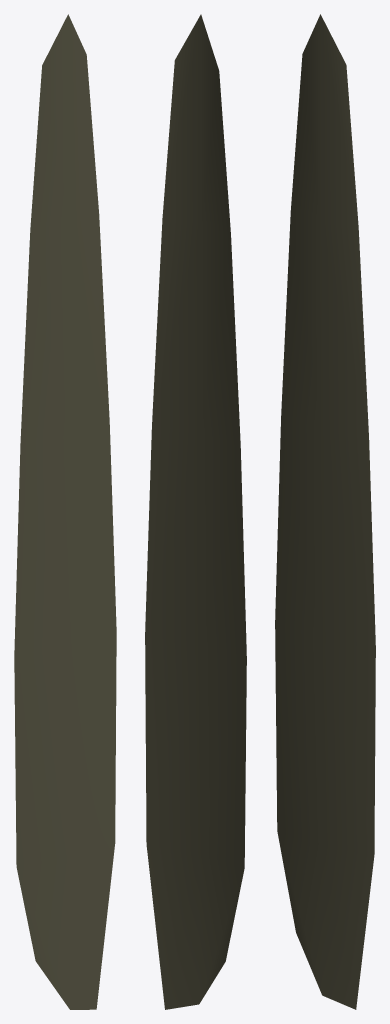
Rendered from finch_feather_flight_primary_003.obj.
3 views of the same model, side by side, from view 1: azimuth 30°, elevation 25°; view 2: azimuth 150°, elevation 25°; view 3: azimuth 330°, elevation 25° (orthographic).
Visible parts, largest first — view 1: feather_flight_primary_003; view 2: feather_flight_primary_003; view 3: feather_flight_primary_003.
Part boxes in pixels (<box>): feather_flight_primary_003: <box>14,14,116,1009</box>; feather_flight_primary_003: <box>145,14,246,1009</box>; feather_flight_primary_003: <box>275,14,375,1009</box>.
Bounding box in the file's own units: 0.00523 × 0.0491 × 0.000349.
